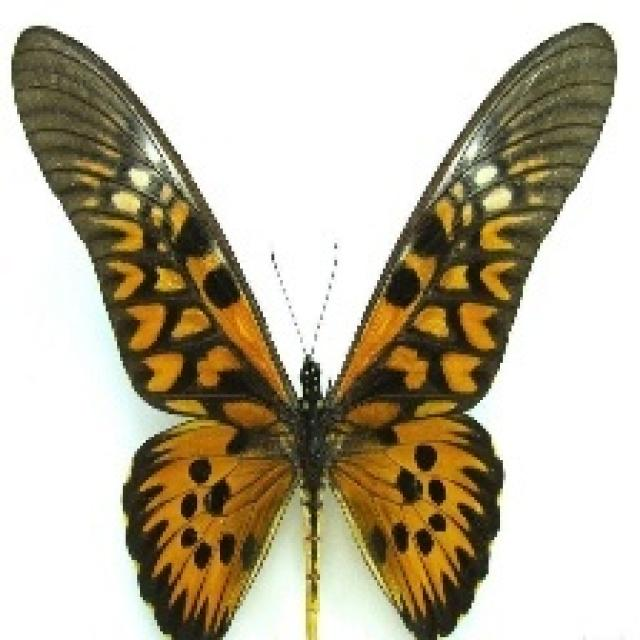butterfly: (9, 17, 617, 637)
